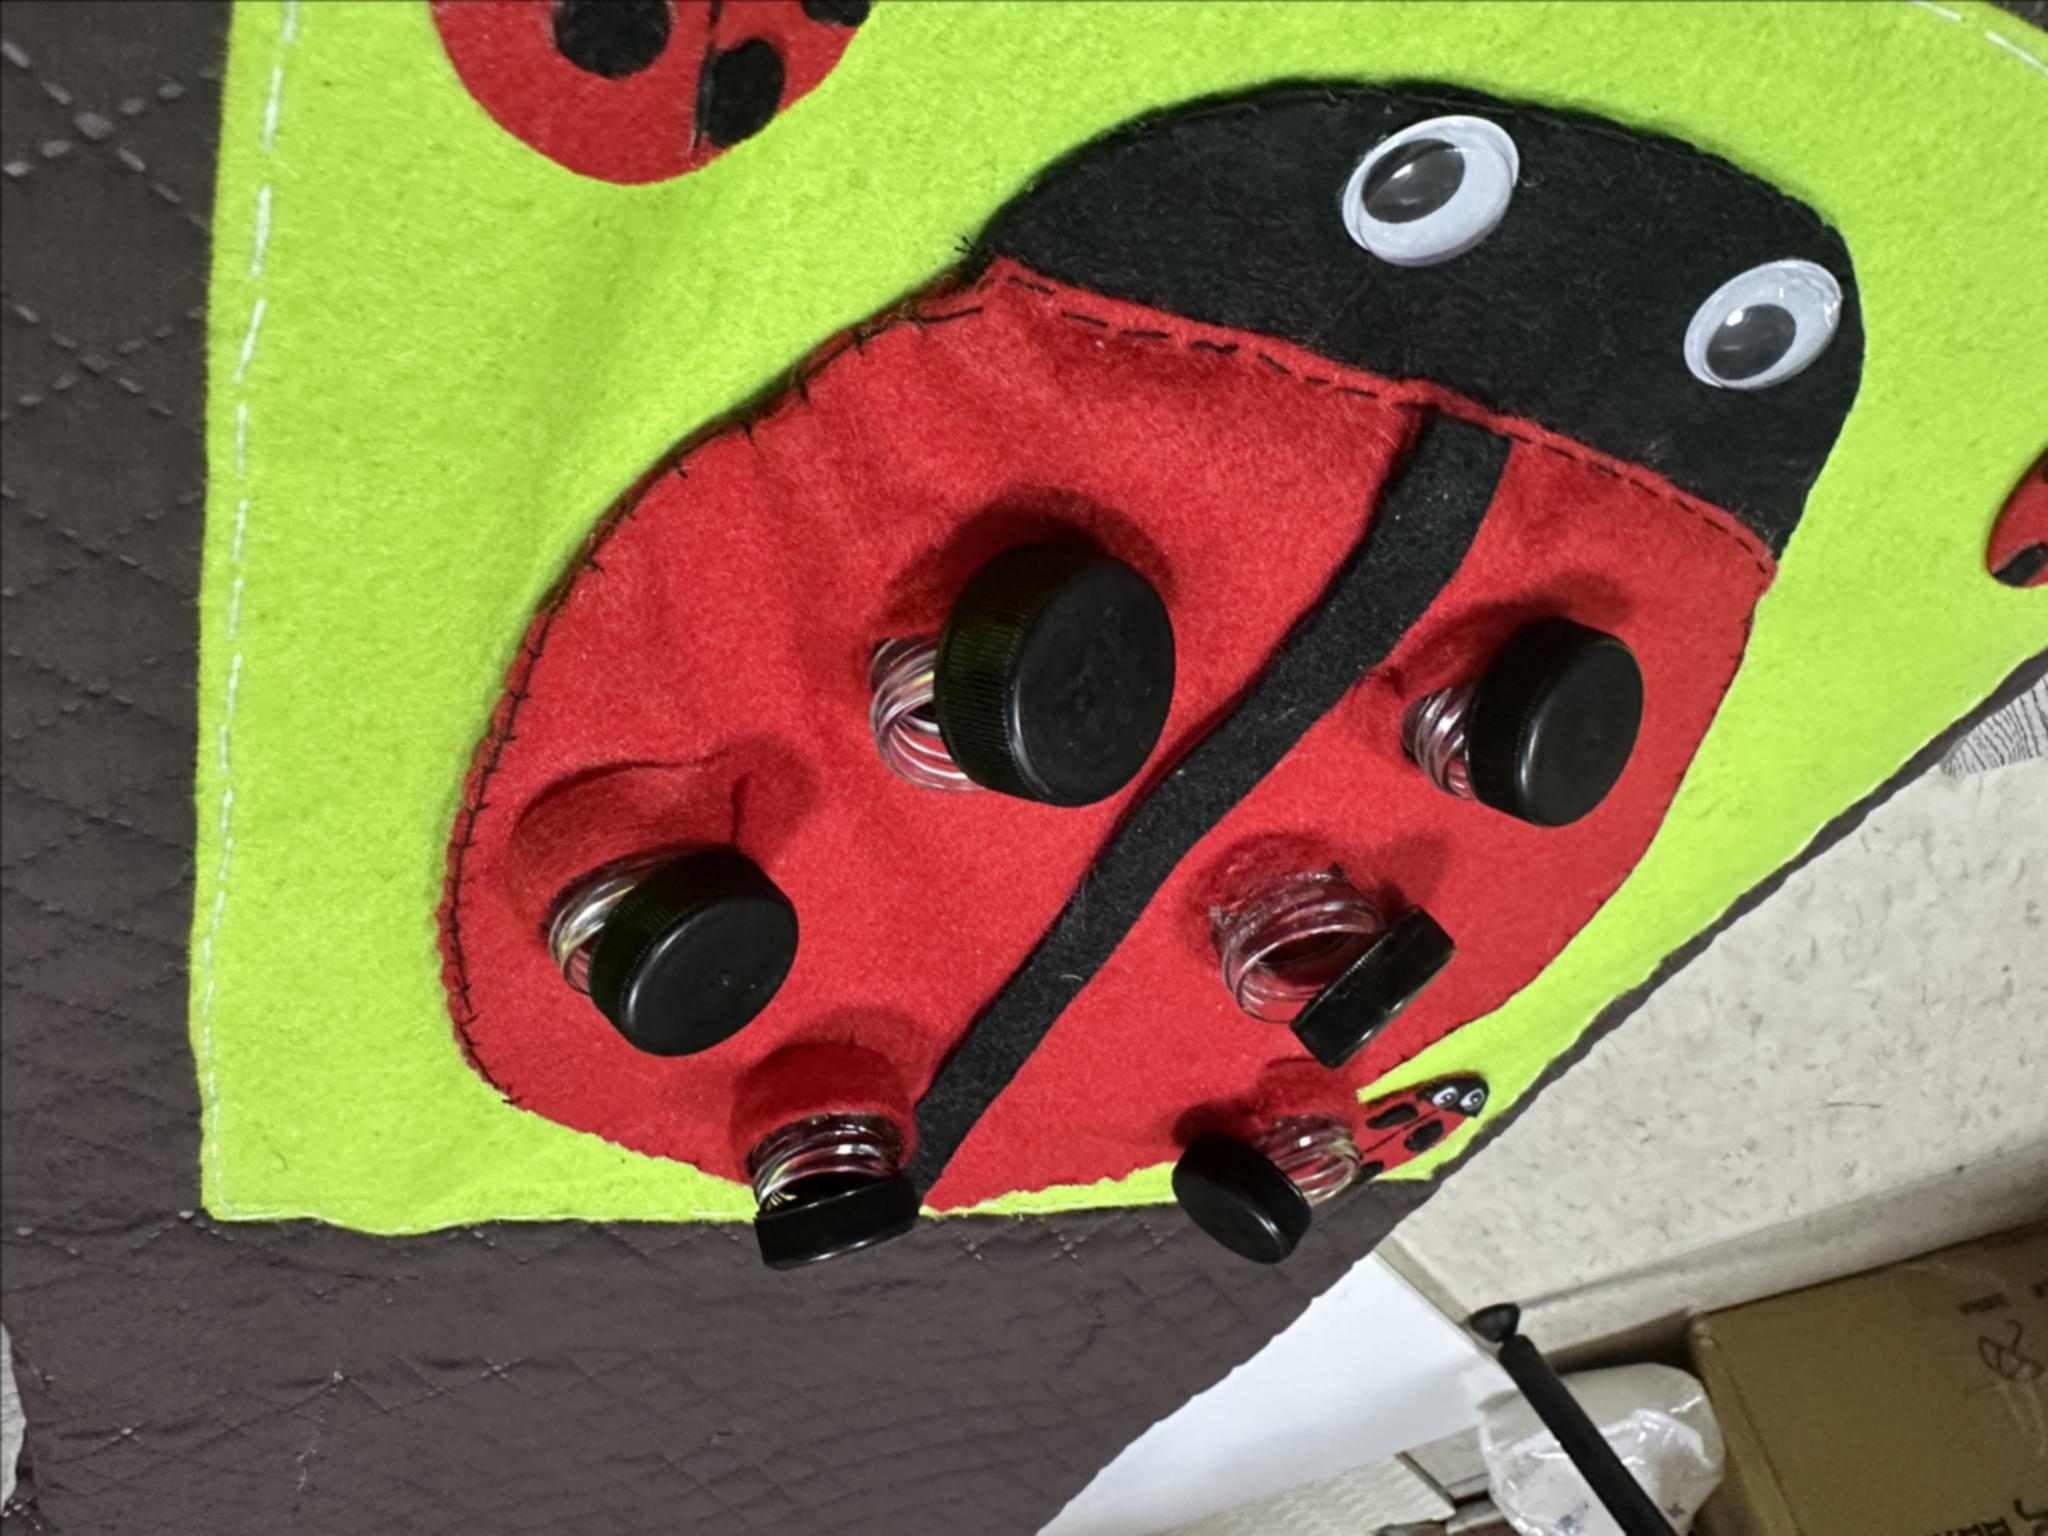cap_ng: (856, 516, 1187, 844), (521, 758, 800, 1063), (1380, 597, 1661, 849), (1201, 852, 1453, 1070), (1147, 1050, 1379, 1284), (735, 1042, 958, 1281)
